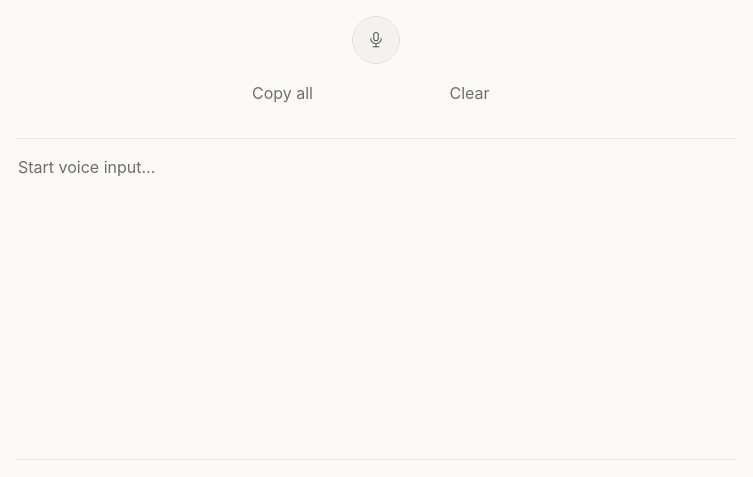
it: VoiceView › clears the transcript
Type "spoken words" into the text box with placeholder "Start voice input…" at {"x": 376, "y": 299}, box top-left (16, 139), bottom-right (736, 459)
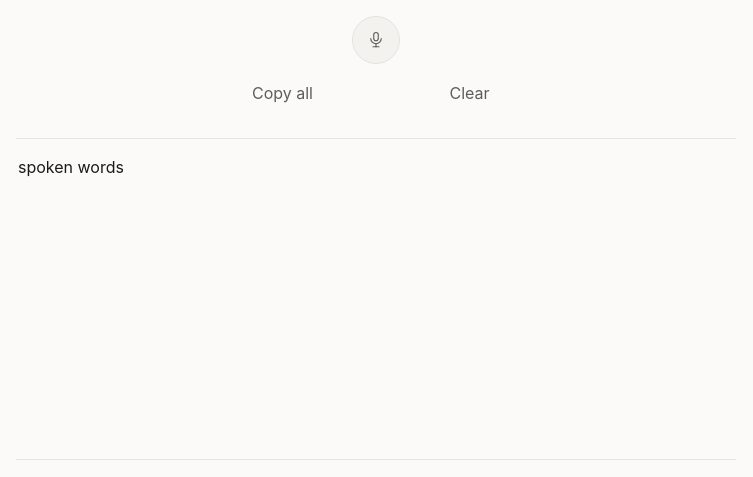
Click the button "Clear" at {"x": 470, "y": 93}, box top-left (378, 76), bottom-right (561, 110)
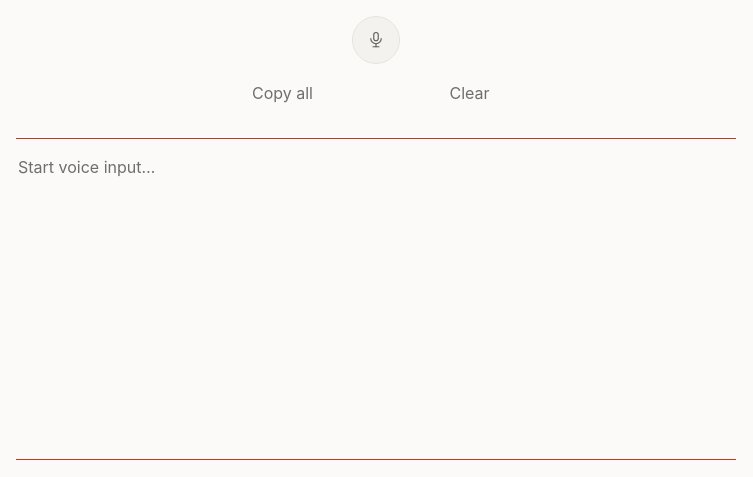
expect the text box with placeholder "Start voice input…" is empty: met
